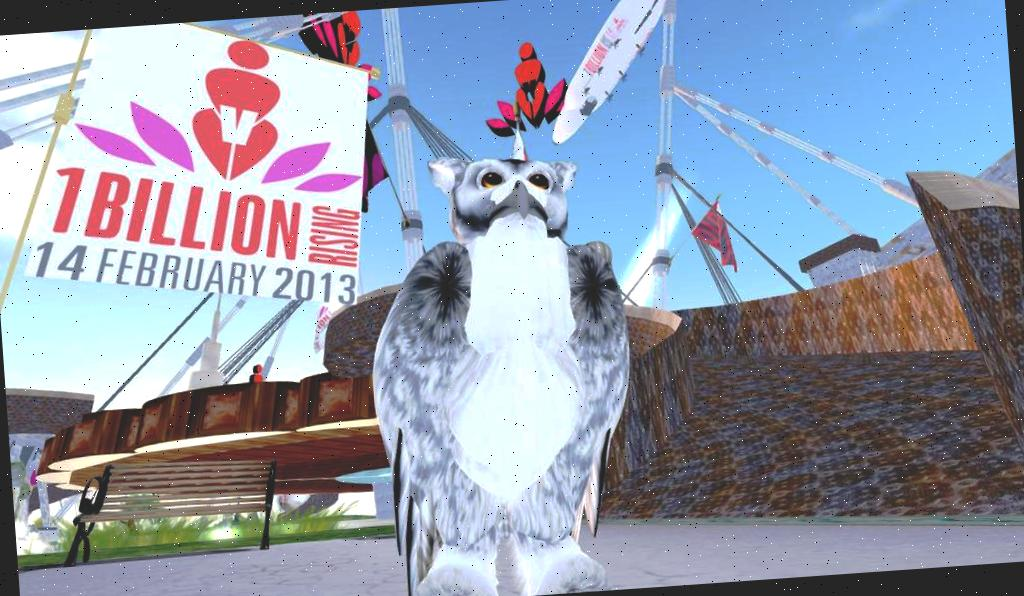Owl: (348, 142, 648, 596)
